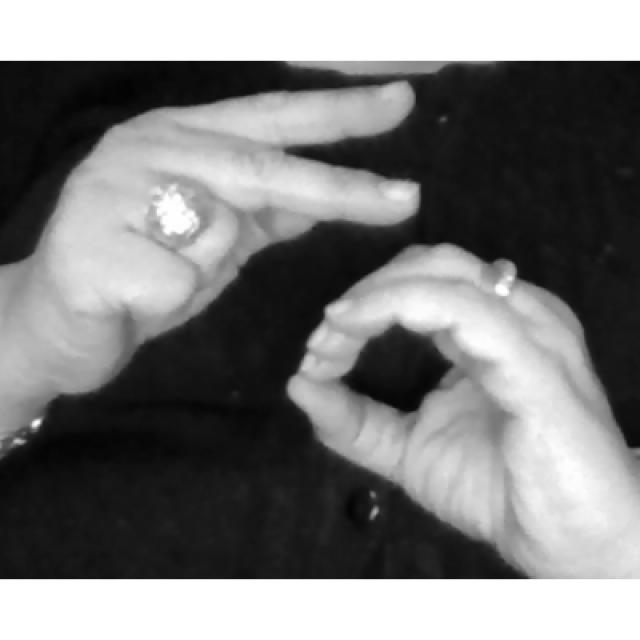O--: (28, 81, 640, 580)
